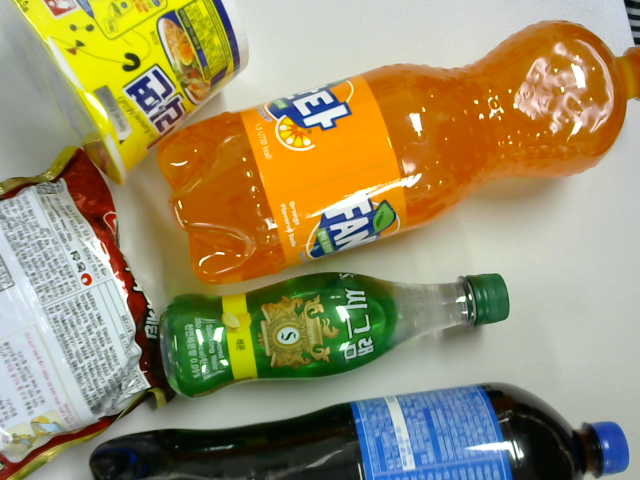Hwanta_Orange_1.5L: (152, 11, 640, 278)
Jinlamyeon_Mild_Taste_Large_Cup: (19, 1, 254, 172)
Pepsi_Cola_1.5L: (97, 367, 629, 480)
Seagram_Lemon_Carbonated_Water: (157, 267, 503, 397)
Sichuan_Chapaghetti: (1, 161, 162, 441)
